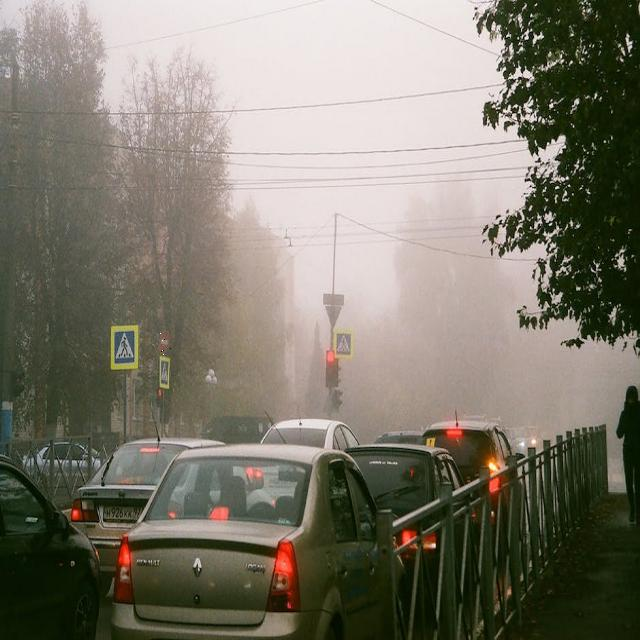no entry: (158, 331, 171, 355)
